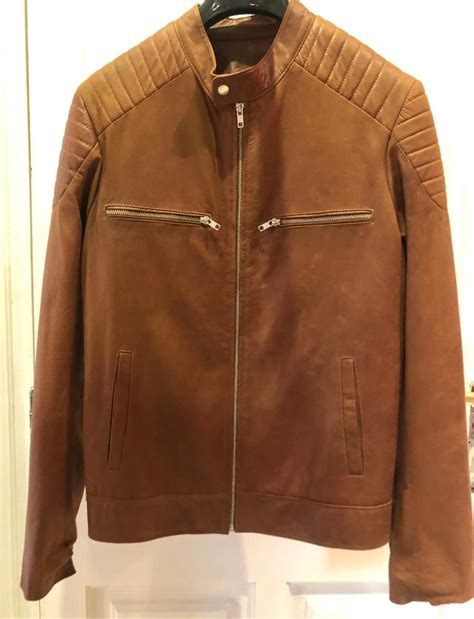cuero: (19, 1, 474, 605)
